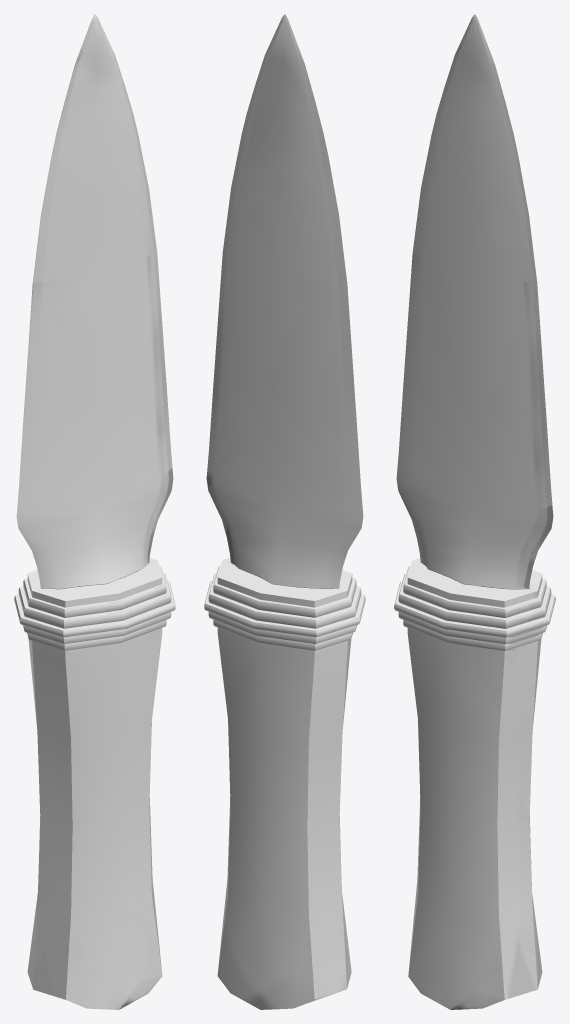
The model's file is 841457Saxon+Dagger.FBX.
3 views of the same model, side by side, from view 1: azimuth 30°, elevation 25°; view 2: azimuth 150°, elevation 25°; view 3: azimuth 330°, elevation 25° (orthographic).
Parts seen in each view (by area): view 1: Knife; view 2: Knife; view 3: Knife.
Part boxes in pixels (box(x1,y1,x2,y2)): Knife: box(14, 14, 175, 1009); Knife: box(204, 14, 365, 1009); Knife: box(394, 14, 555, 1009).
Bounding box in the file's own units: 4.77 × 28.59 × 3.33.
Materials: 1 (1 with a texture image).
